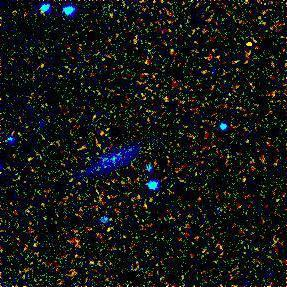star: (235, 28, 265, 58)
